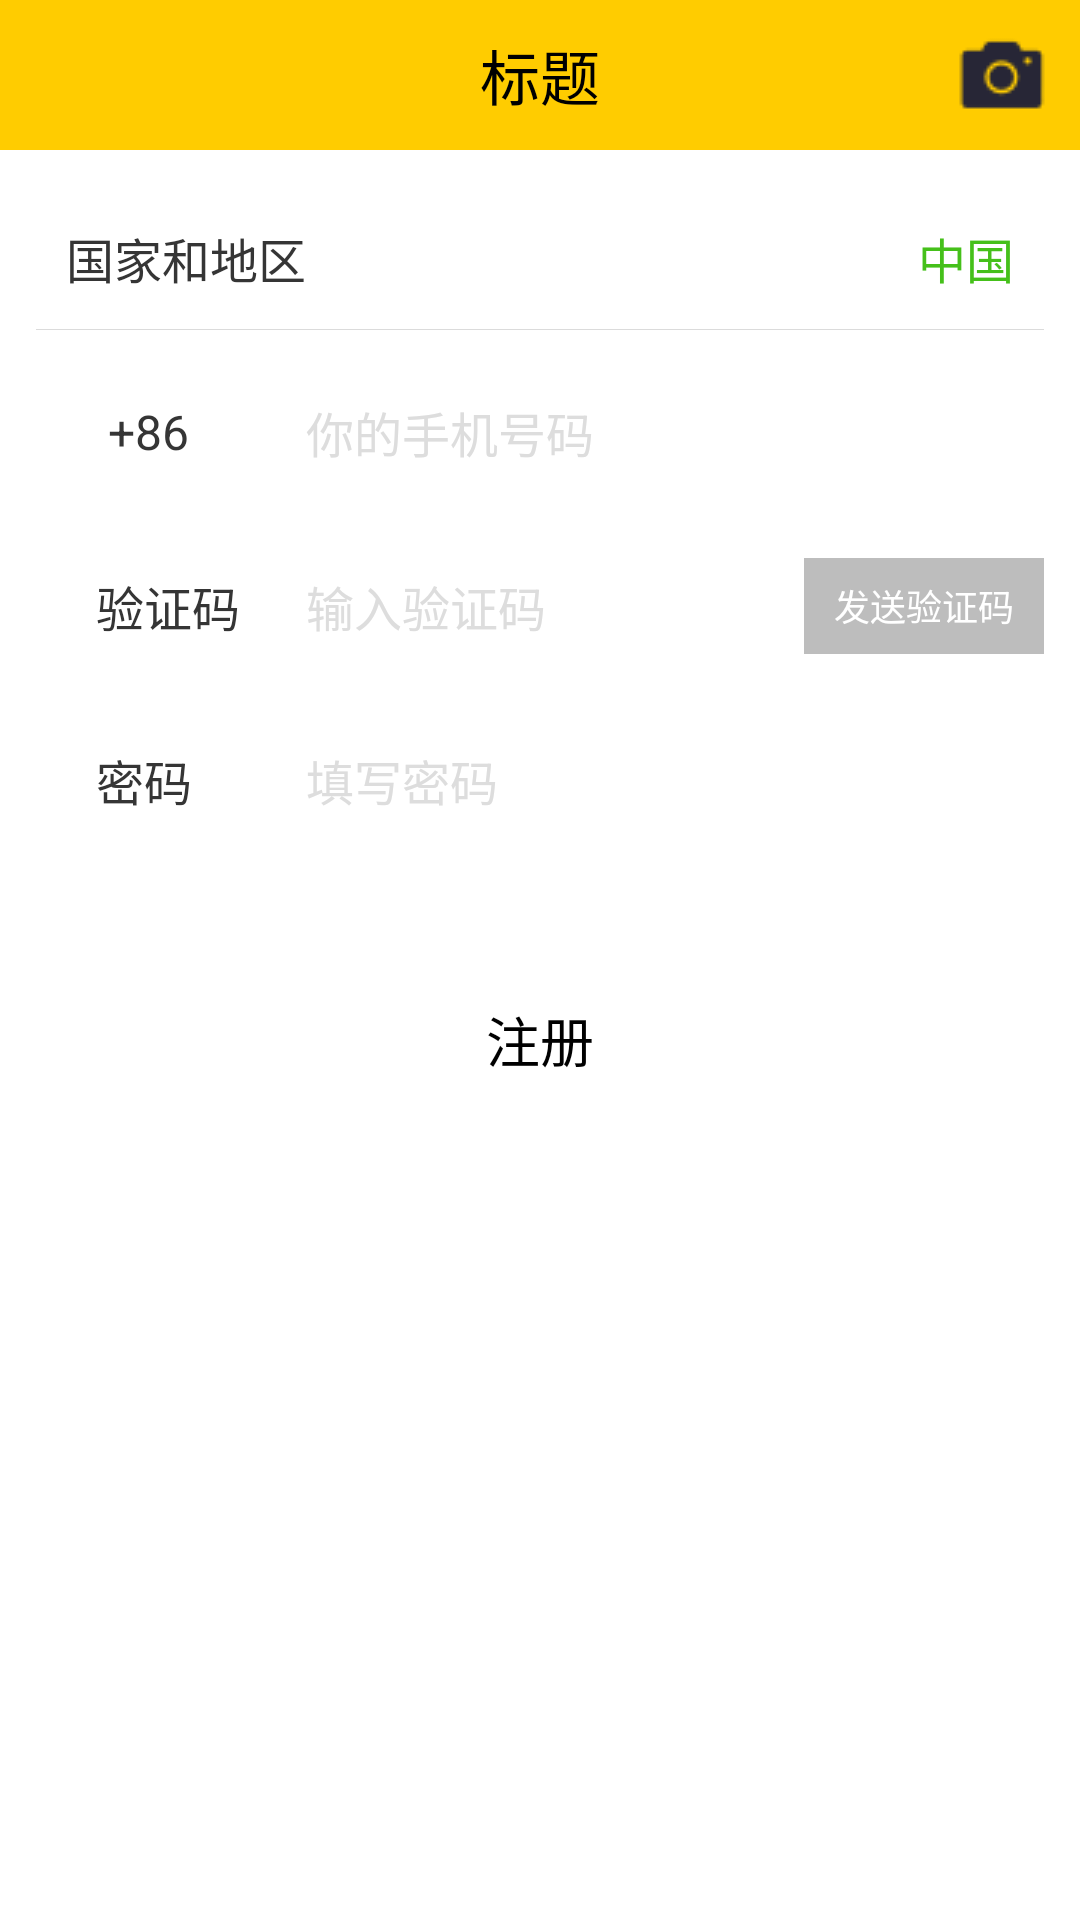

Icons on this 1080x1920 Android screen, each with the point to tap as (x=x, y=y):
camera: (x=1001, y=75)
